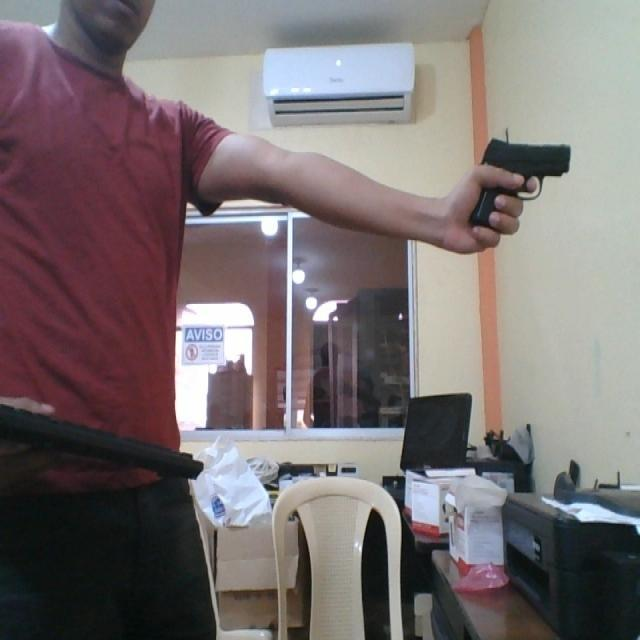weapon: (468, 132, 572, 232)
